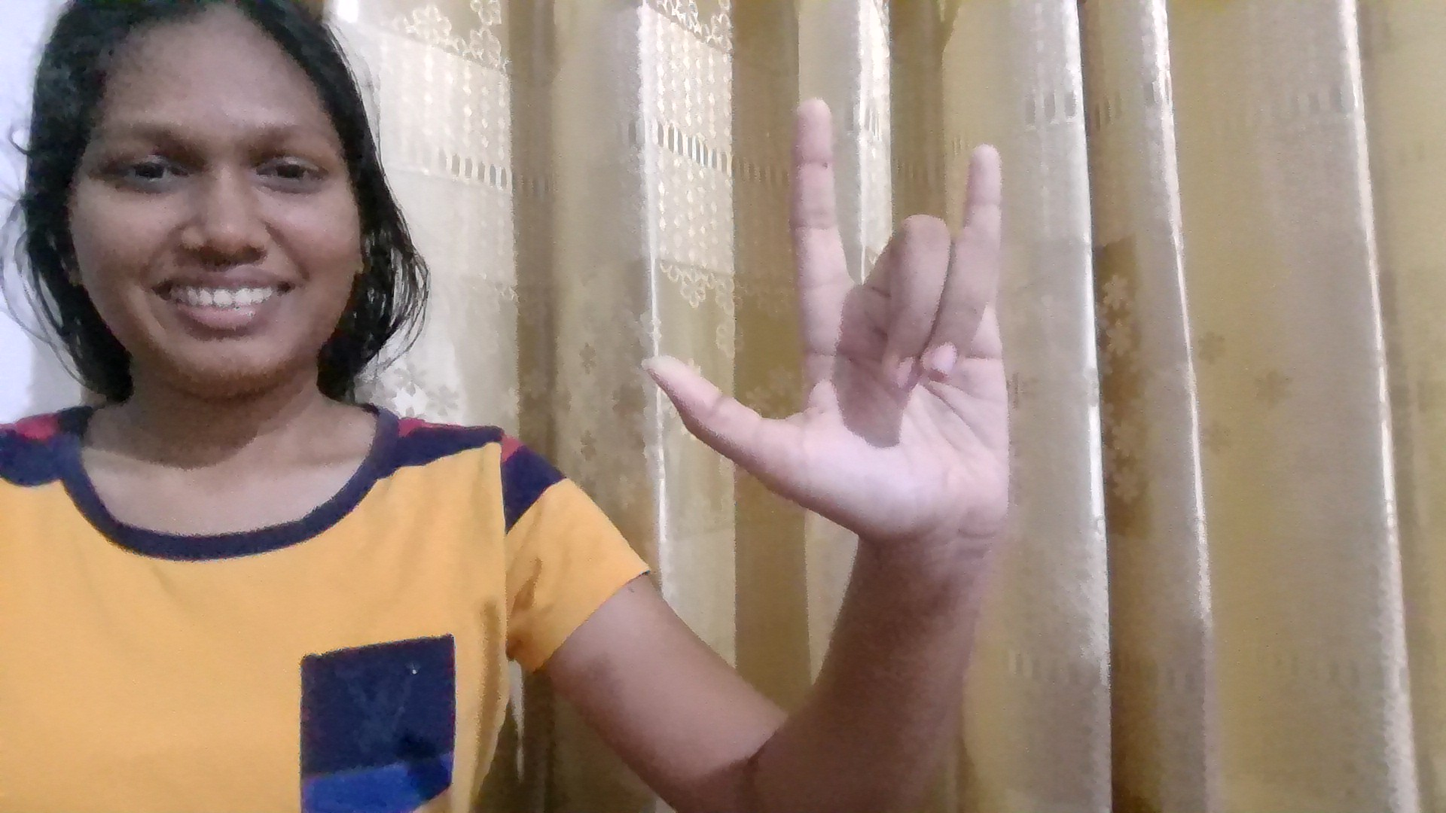I Love You: (667, 80, 1177, 581)
